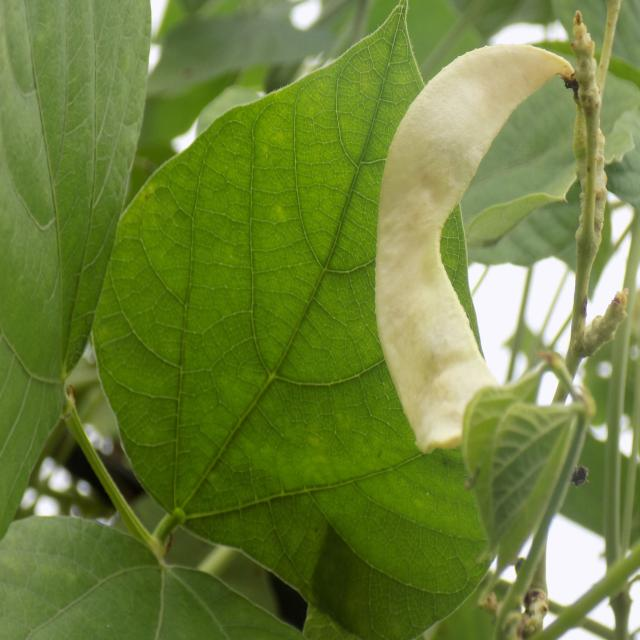Dolicos bean_healthy: (85, 0, 523, 640)
